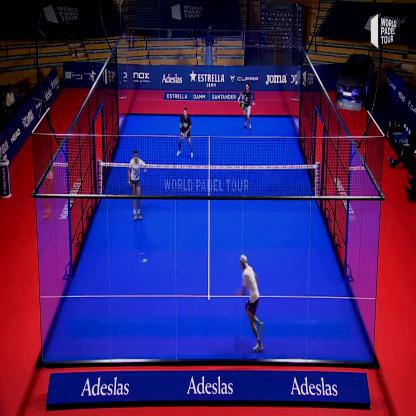ball: (140, 253, 150, 263)
